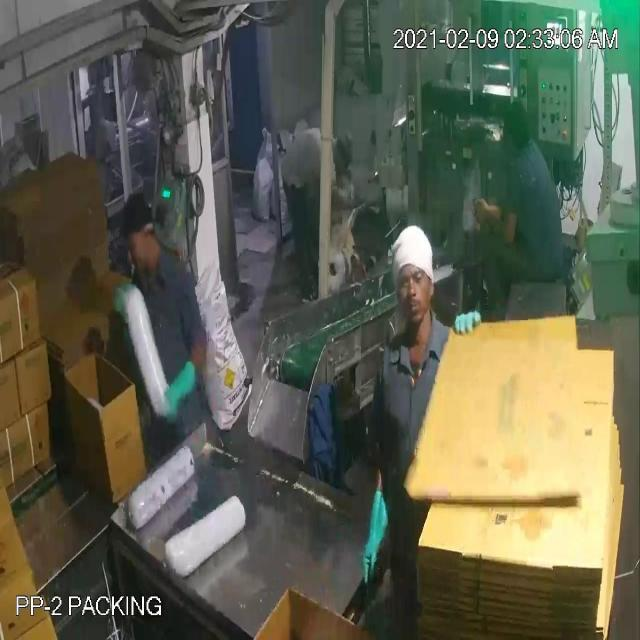Gloves: (32, 40, 505, 529)
